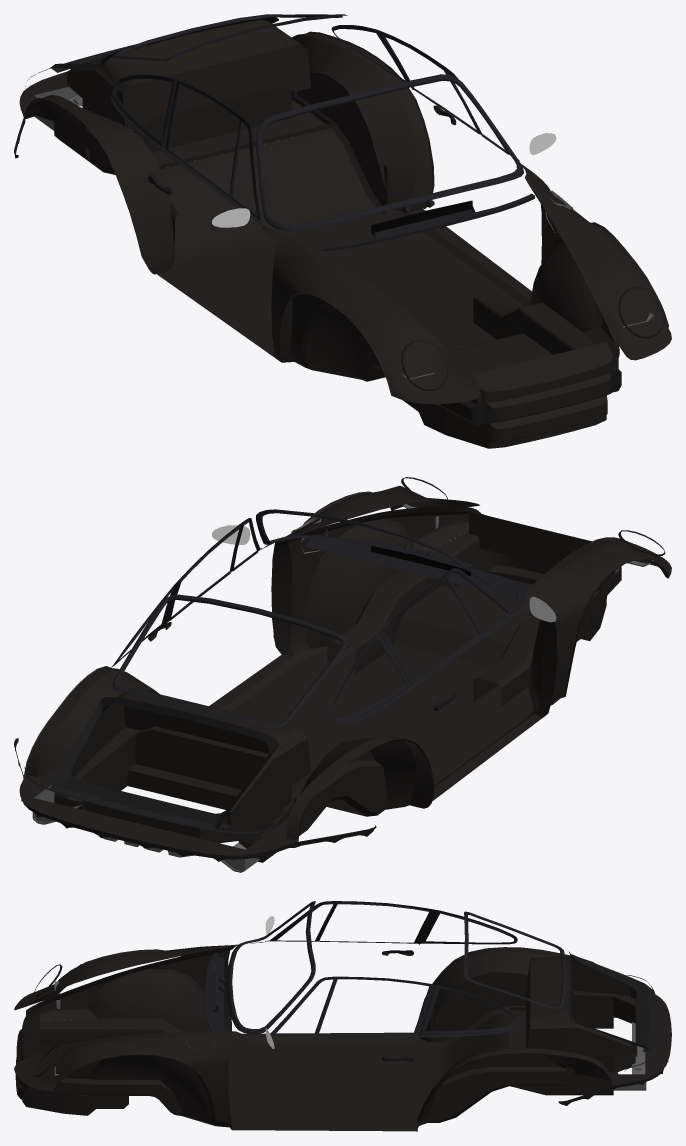
Rendered from RWB_993_Base_Trim.fbx.
3 renders of one model, top to bottom at view 1: azimuth 30°, elevation 25°; view 2: azimuth 150°, elevation 25°; view 3: azimuth 270°, elevation 25°, orthographic. The views are drawn at different scales.
Visible parts, largest first — view 1: RWB_993_Base_Trim; view 2: RWB_993_Base_Trim; view 3: RWB_993_Base_Trim.
Boxes of the visible parts, x1,y1,x2,y2 form: RWB_993_Base_Trim: [14, 14, 671, 448]; RWB_993_Base_Trim: [14, 477, 671, 872]; RWB_993_Base_Trim: [14, 901, 671, 1131].
Size of the model in its own units: 194 by 106 by 405.
